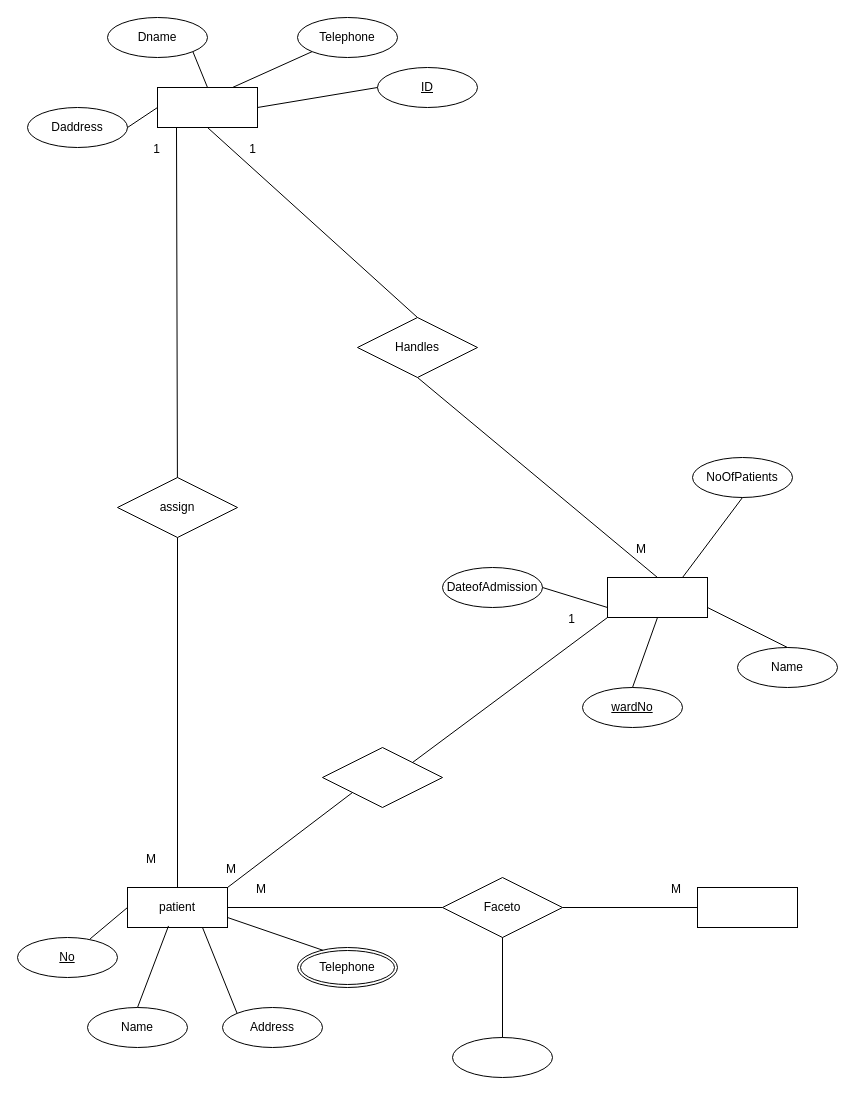
The diagram is 855 pixels wide and 1095 high, and some of its shapes have lost their labels. Each missing label, with the box of its shape:
doctor: (156, 86, 258, 128)
Dose: (452, 1036, 552, 1078)
has: (322, 746, 442, 808)
treatment: (696, 886, 798, 928)
ward: (606, 576, 708, 618)
